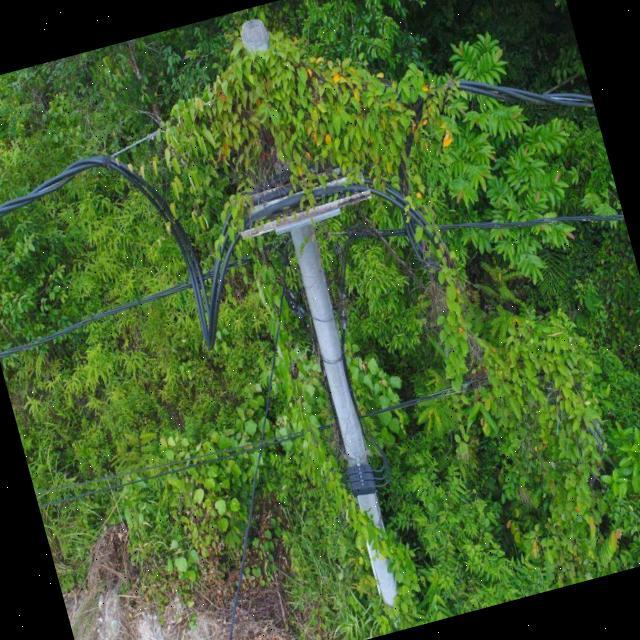critical vegetation: (127, 0, 584, 601)
